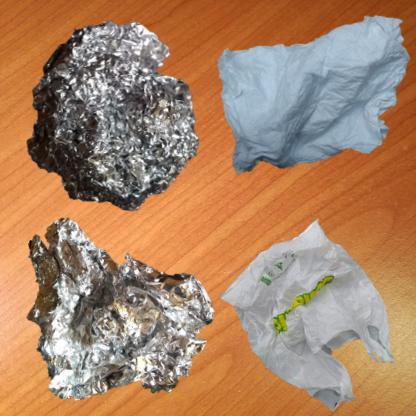aluminio: (10, 10, 211, 229), (10, 213, 226, 416)
bolsa: (213, 213, 405, 416)
papel: (213, 10, 416, 182)
